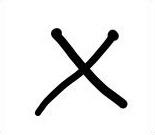mult: (33, 27, 129, 115)
